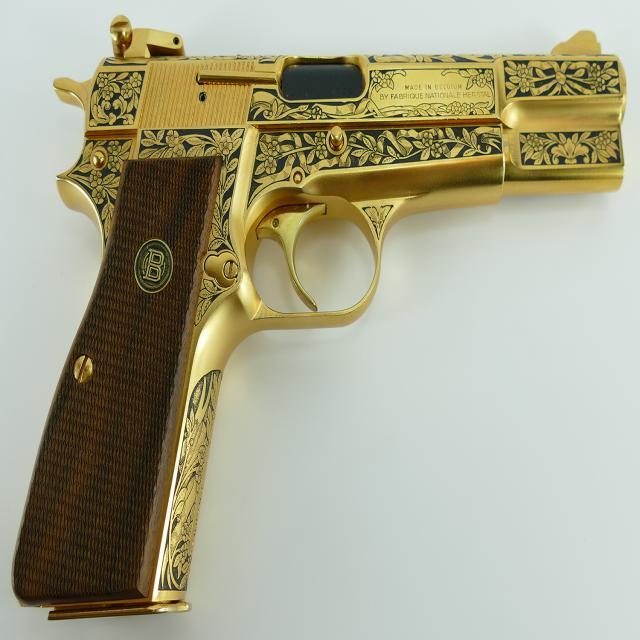Pistol: (4, 7, 640, 633)
